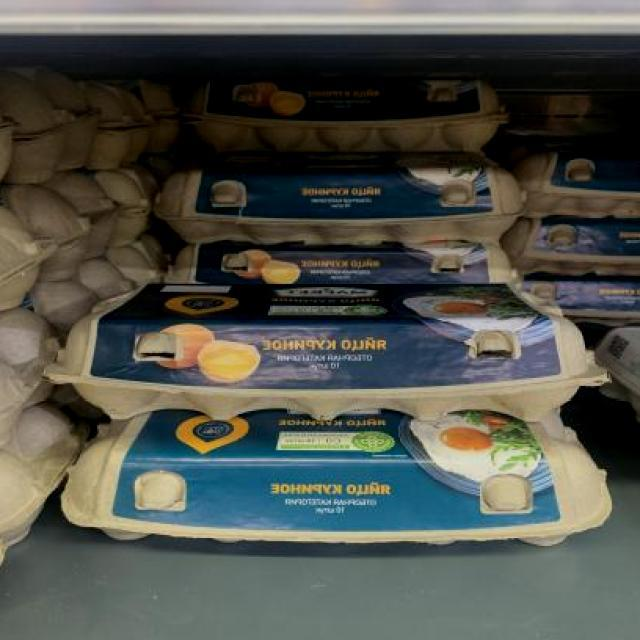Eggs: (55, 414, 613, 554), (44, 284, 608, 418), (155, 156, 524, 246), (182, 74, 513, 154), (165, 246, 510, 286)
